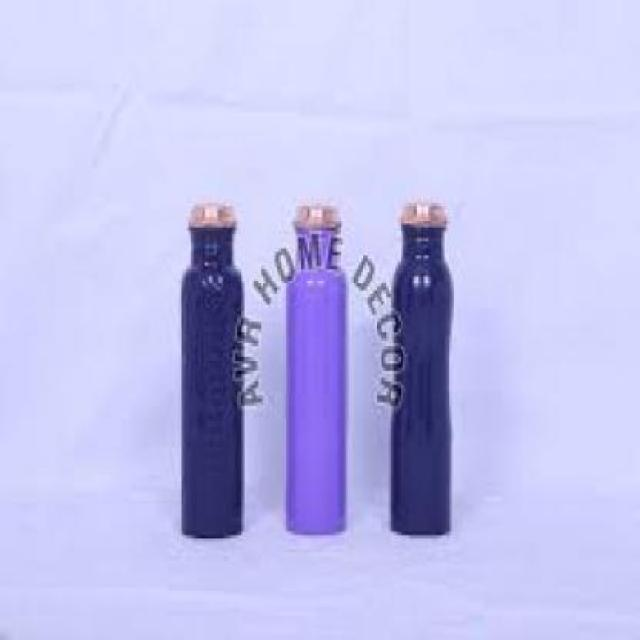Drinking: (167, 179, 256, 546), (384, 175, 468, 552), (283, 188, 355, 546)
